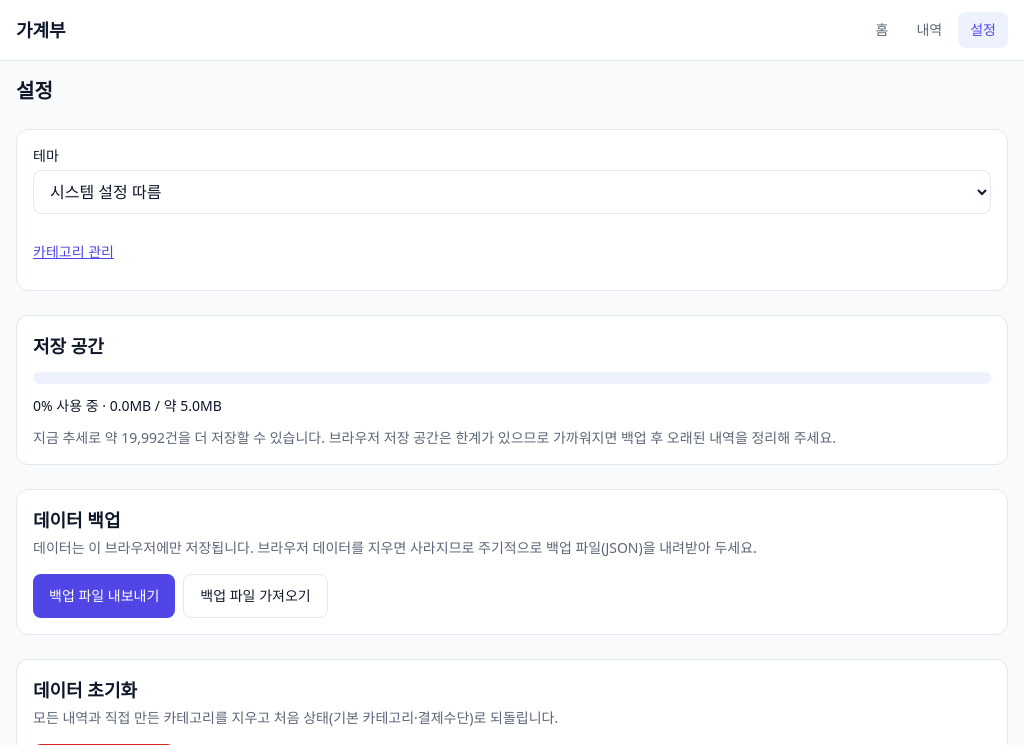
Test: 설정 화면 실패 › 백업 내보내기 중 저장소를 읽지 못하면 오류 알림을 보여 준다
The image size is (1024, 745).
Check: the heading "설정" is shown, box [16,77,53,104]
Click the button "백업 파일 내보내기": (104, 596) [33,574,175,618]
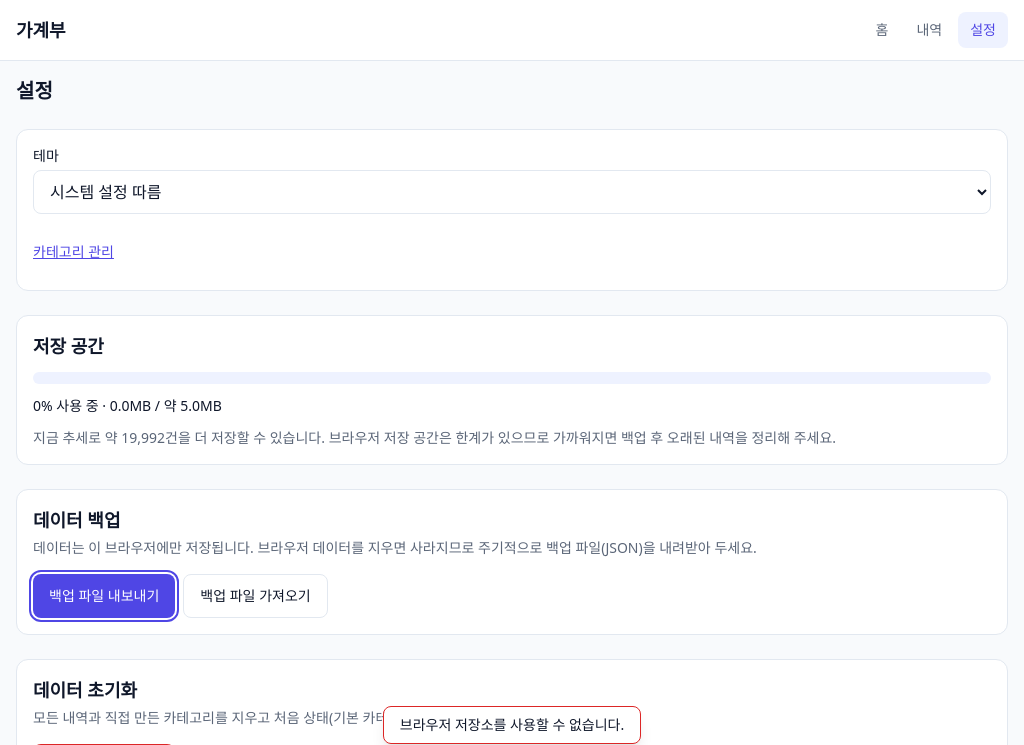
Check: the message reads "브라우저 저장소를 사용할 수 없습니다.", box [400,715,624,734]
